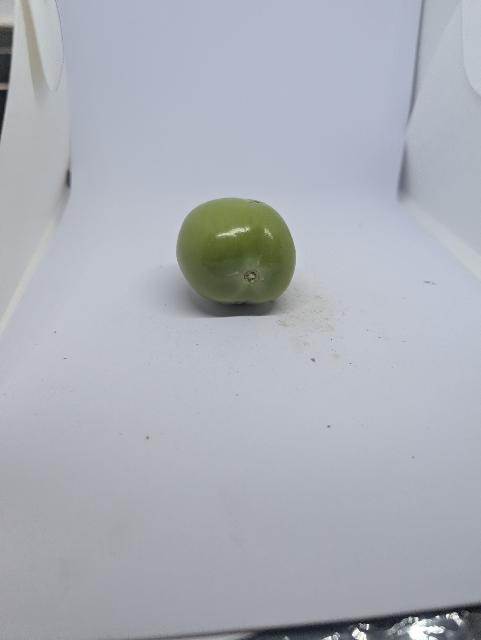green: (173, 193, 299, 309)
